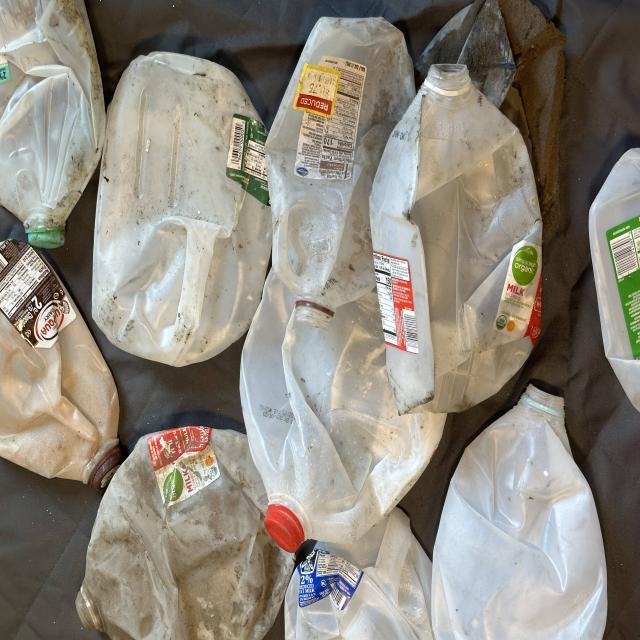milk-jug: (378, 66, 546, 403), (99, 39, 275, 358), (258, 15, 424, 332), (238, 320, 442, 553), (77, 422, 295, 640), (442, 373, 608, 639), (0, 240, 120, 489), (0, 0, 105, 245)
